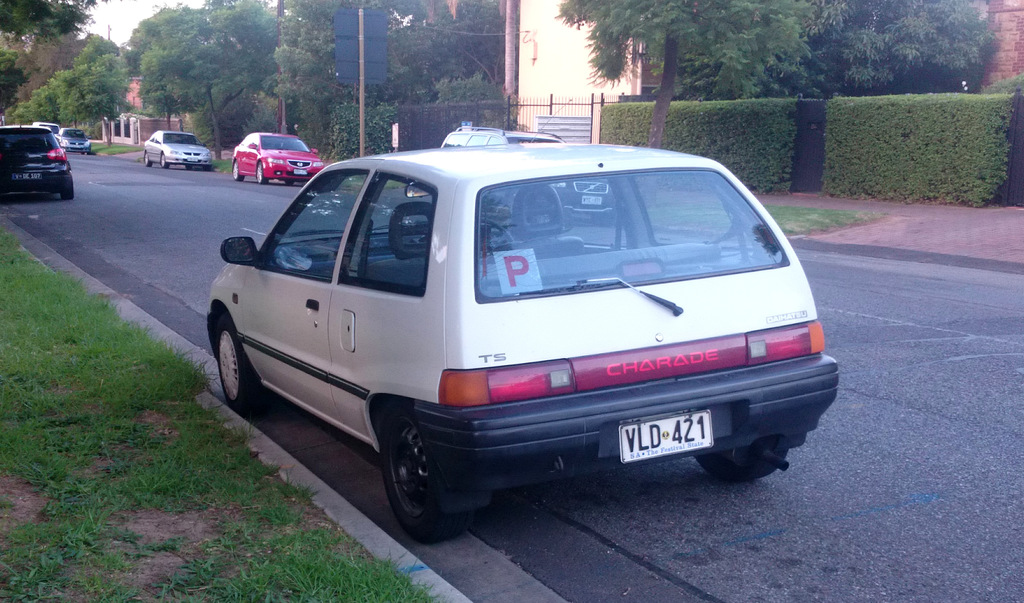license plate: (615, 428, 712, 465)
